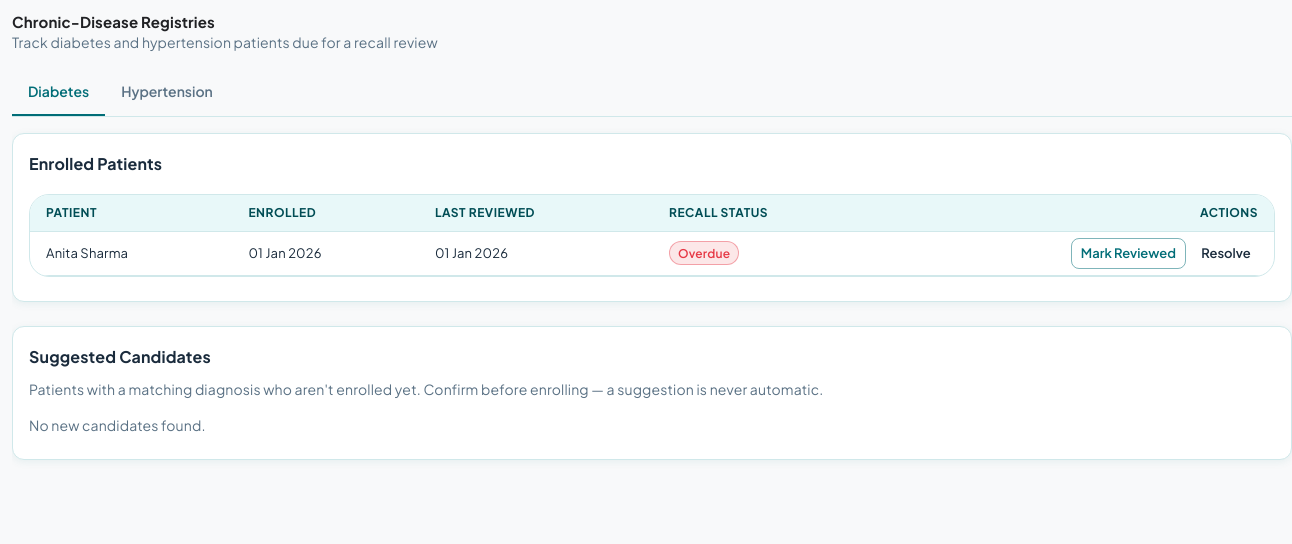
it: ManagerRegistries (chronic-disease registries) › marks a review done via the real mutation and refetches
expect the text "Anita Sharma" is shown: met, box [30,232,232,275]
Click the button "Mark Reviewed" at coordinates (1128, 253), box [1071,238,1186,269]
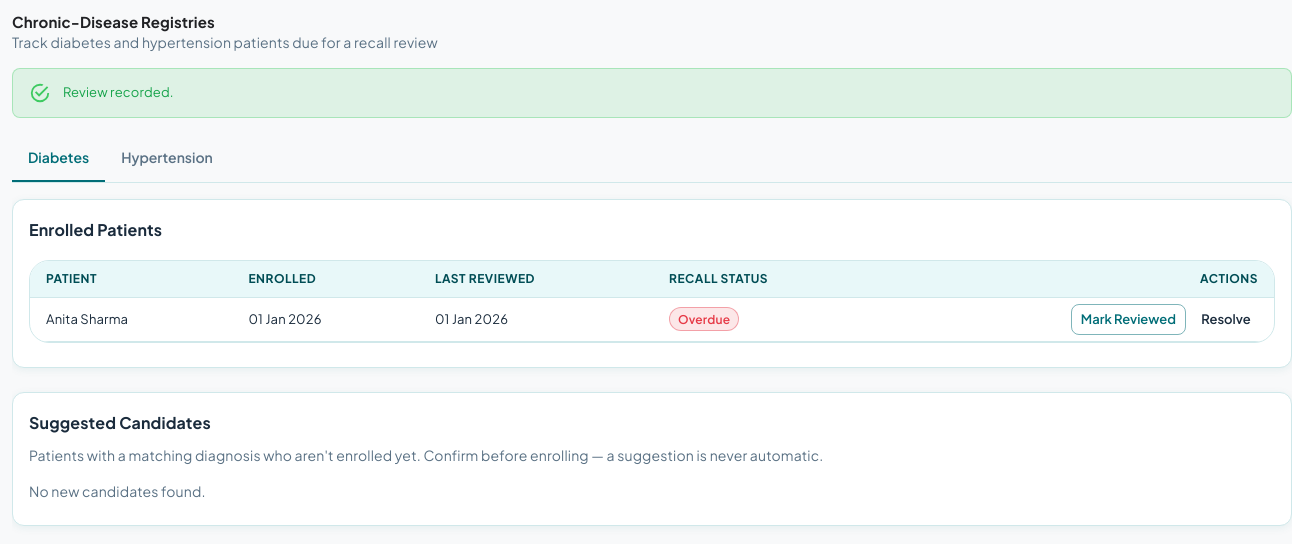
expect the text "Review recorded." is shown: met, box [63,84,174,100]
